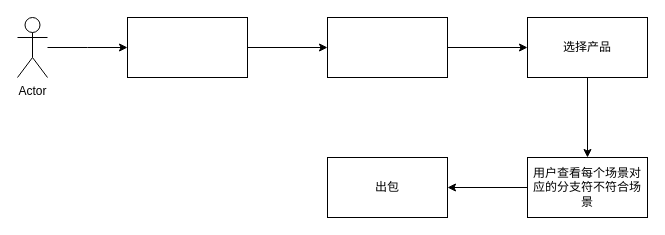
This 665x235 diagram has some shape labels left out. Here are the shapes that lost their labels. From the top down, the centre of each, then its label:
At point (187, 47): "选择先知版本".
At point (387, 47): "选择客户".
